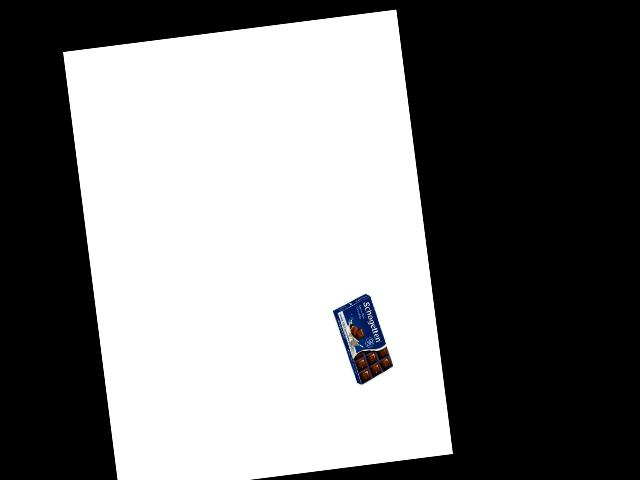chocolate: (338, 289, 395, 387)
